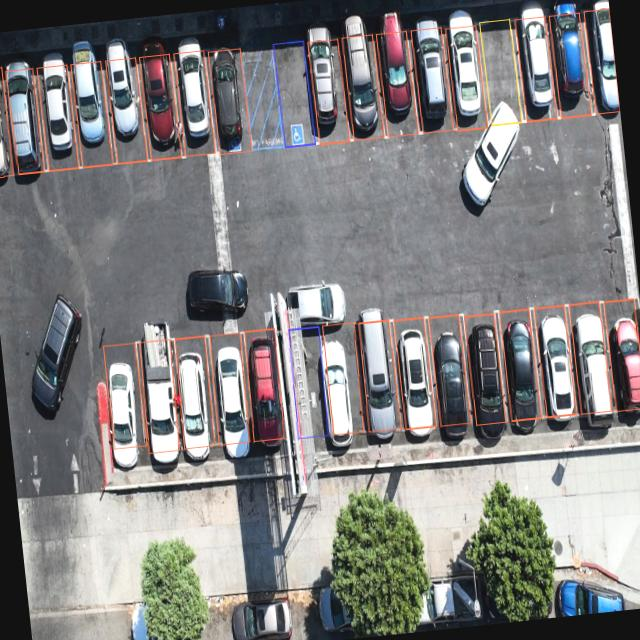car: (92, 340, 150, 474), (566, 300, 620, 428), (132, 337, 184, 468), (169, 334, 219, 461), (204, 332, 254, 455), (460, 311, 510, 432), (390, 316, 439, 436), (318, 324, 366, 446), (496, 308, 546, 425), (426, 314, 474, 434), (444, 15, 491, 126), (357, 322, 401, 439), (512, 12, 560, 118), (243, 330, 286, 448), (136, 54, 185, 157), (0, 60, 44, 174), (376, 26, 422, 135), (34, 60, 80, 168), (304, 34, 350, 142), (411, 21, 456, 130), (339, 33, 385, 139), (172, 49, 219, 152), (68, 58, 114, 163), (534, 302, 576, 416), (548, 8, 594, 112), (102, 56, 147, 158), (210, 46, 250, 156), (583, 2, 619, 111), (611, 305, 640, 416), (0, 60, 12, 179)
free: (478, 17, 524, 122), (291, 332, 331, 444), (274, 42, 316, 145)
